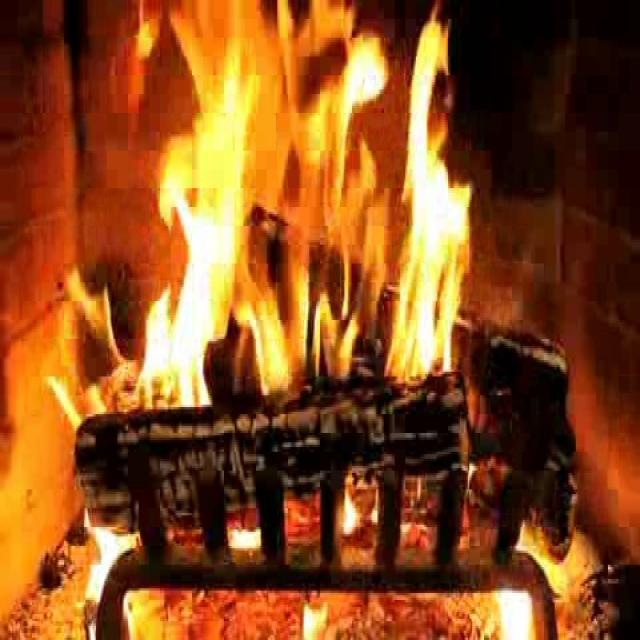fire: (112, 5, 475, 419)
